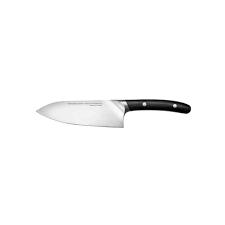Knife: (35, 98, 191, 128)
